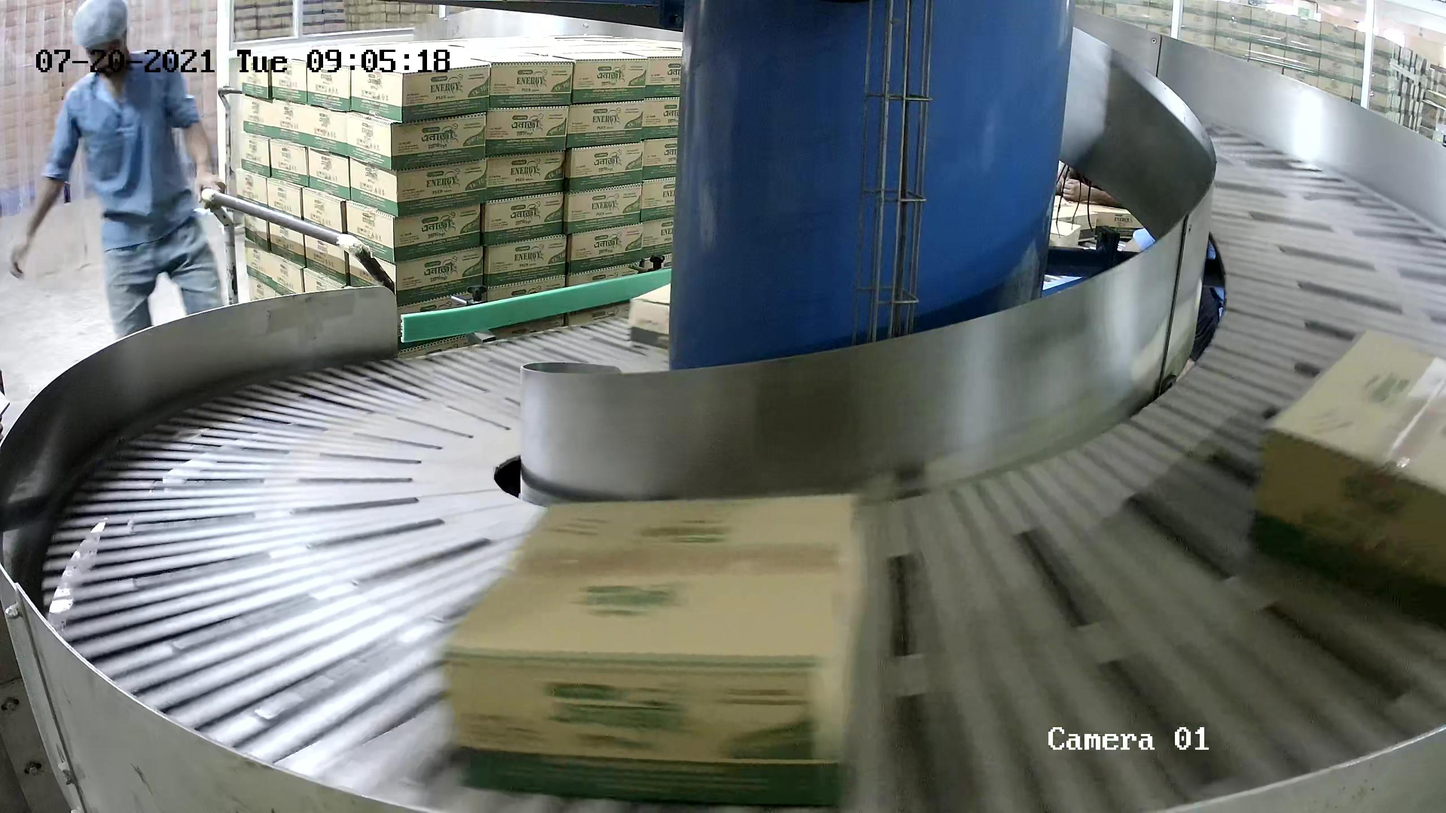Box: (446, 492, 869, 813), (1246, 326, 1446, 638), (628, 261, 756, 361)
